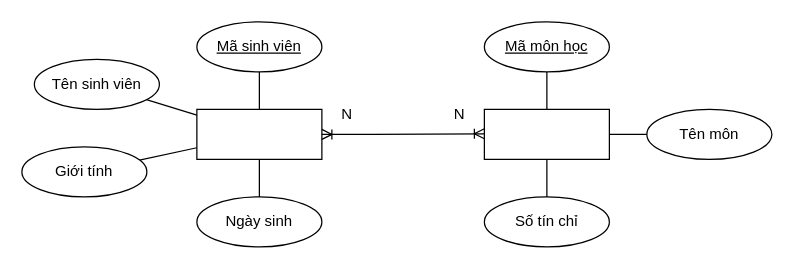
Image size: 794x269. Some labels were removed from this diagram. The box of each missing label's shape, as (x1, y1, x2, y2) in pixels:
Môn học: (483, 108, 609, 159)
SInh viên: (196, 108, 322, 159)
